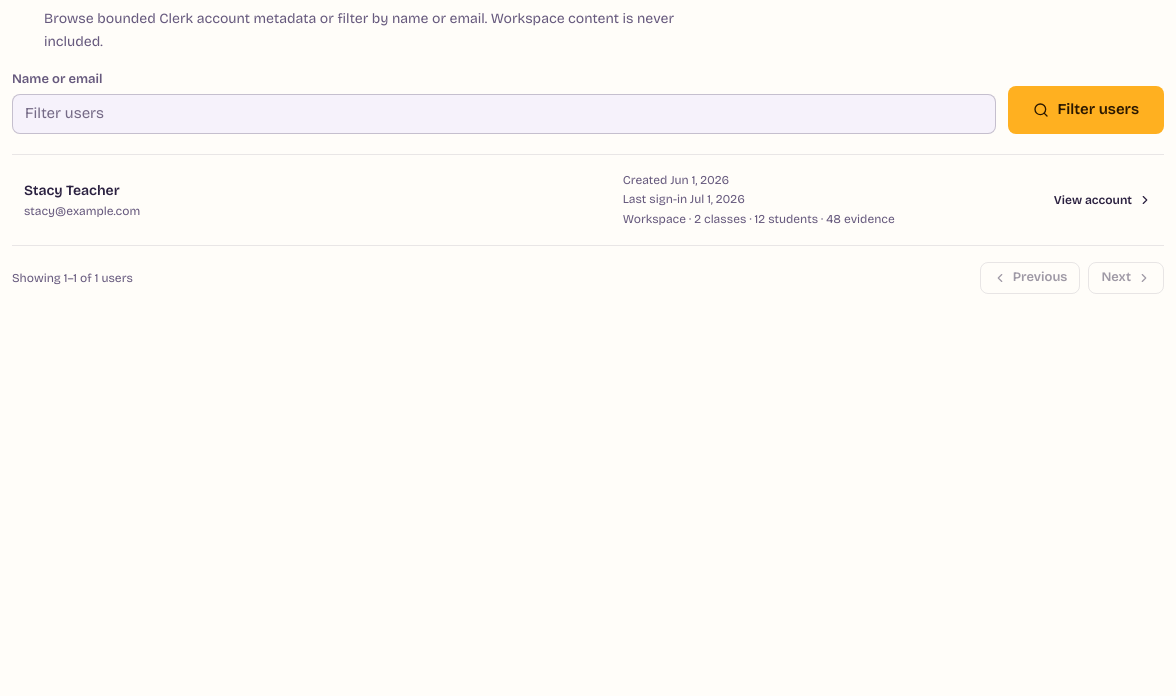
OperatorConsole › renders the authorized bounded directory and selects safe account metadata
Click the button named "view account".
click(72, 190)  # box left=12, top=154, right=1164, bottom=245
(page scrolled)
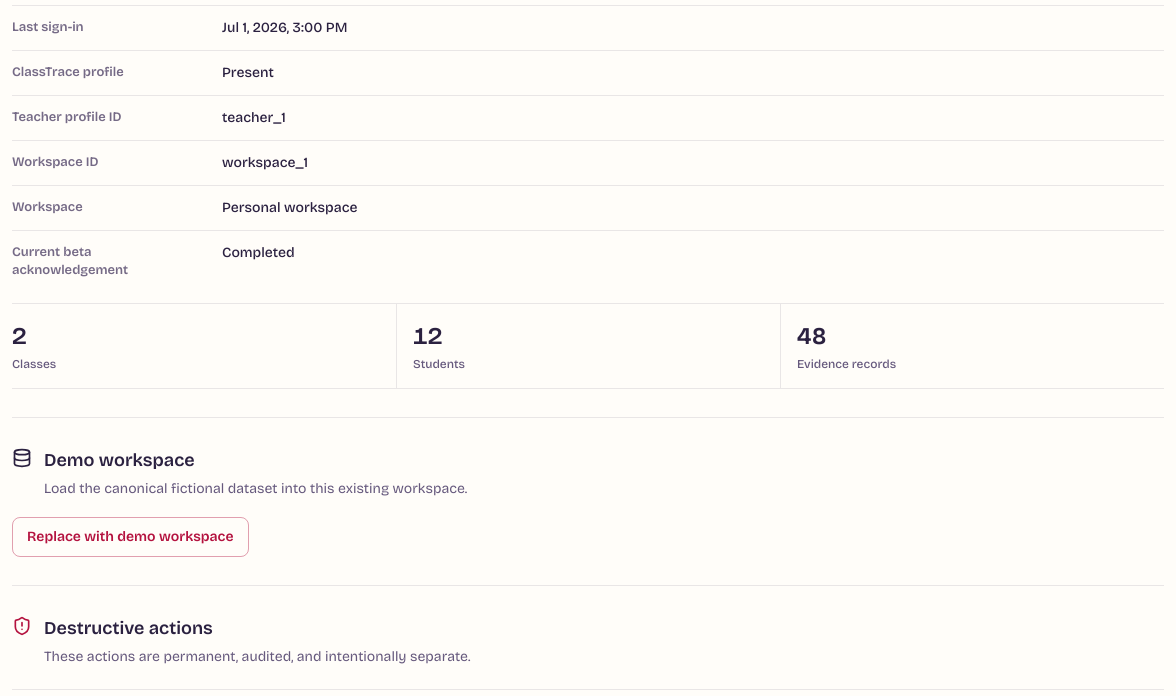
Expected: the text "12" is shown, left=413, top=322, right=443, bottom=350
Expected: the text "48" is shown, left=797, top=322, right=827, bottom=350
